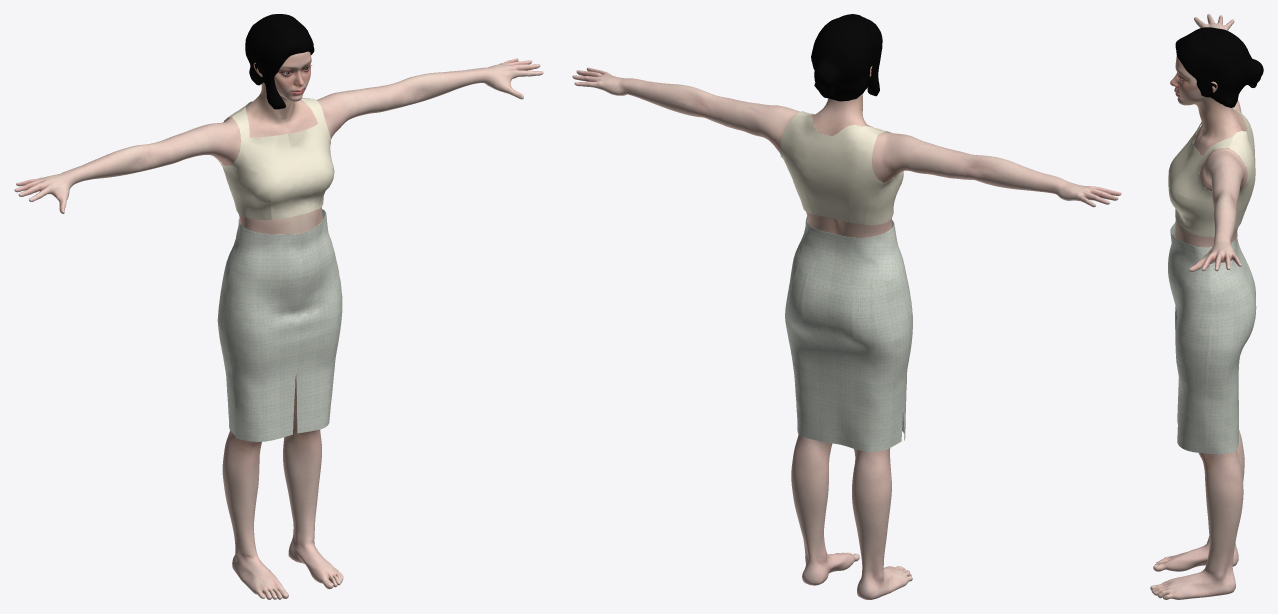
Rendered from Dramatic.obj.
3 views of the same model, side by side, from view 1: azimuth 30°, elevation 25°; view 2: azimuth 150°, elevation 25°; view 3: azimuth 270°, elevation 25° (orthographic). The views are drawn at different scales.
Bounding box in the file's own units: 1744 × 1763 × 328.
